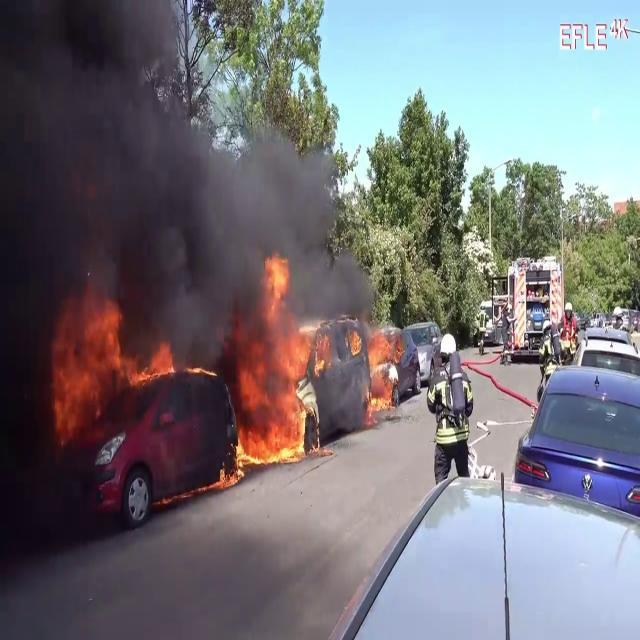Fire: (226, 276, 330, 472), (45, 287, 176, 441), (351, 321, 401, 414)
Smoke: (0, 0, 358, 331)
